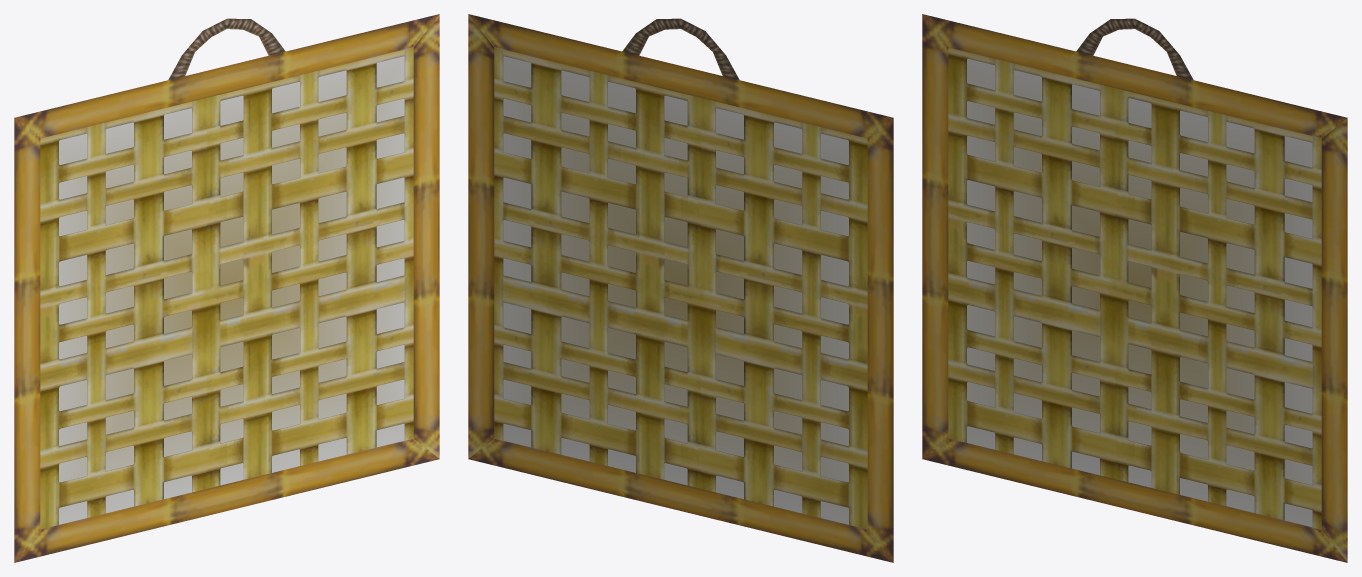
Rendered from bamboofence_rail_bake.dae.
The picture shows the model from 3 angles, left to right: view 1: azimuth 30°, elevation 25°; view 2: azimuth 150°, elevation 25°; view 3: azimuth 330°, elevation 25°; orthographic projection.
Visible parts, largest first — view 1: m1, m0, m1_VC; view 2: m1, m0, m1_VC; view 3: m1, m0, m1_VC.
Boxes of the visible parts, x1,y1,x2,y2 form: m1: [40, 47, 413, 529]; m0: [14, 14, 439, 562]; m1_VC: [59, 56, 404, 524]; m1: [494, 47, 867, 529]; m0: [468, 14, 893, 562]; m1_VC: [503, 56, 848, 524]; m1: [948, 47, 1321, 529]; m0: [922, 14, 1347, 562]; m1_VC: [967, 58, 1312, 526].
Size of the model in its own units: 600 by 664 by 0.
Materials: 3 (3 with a texture image).
